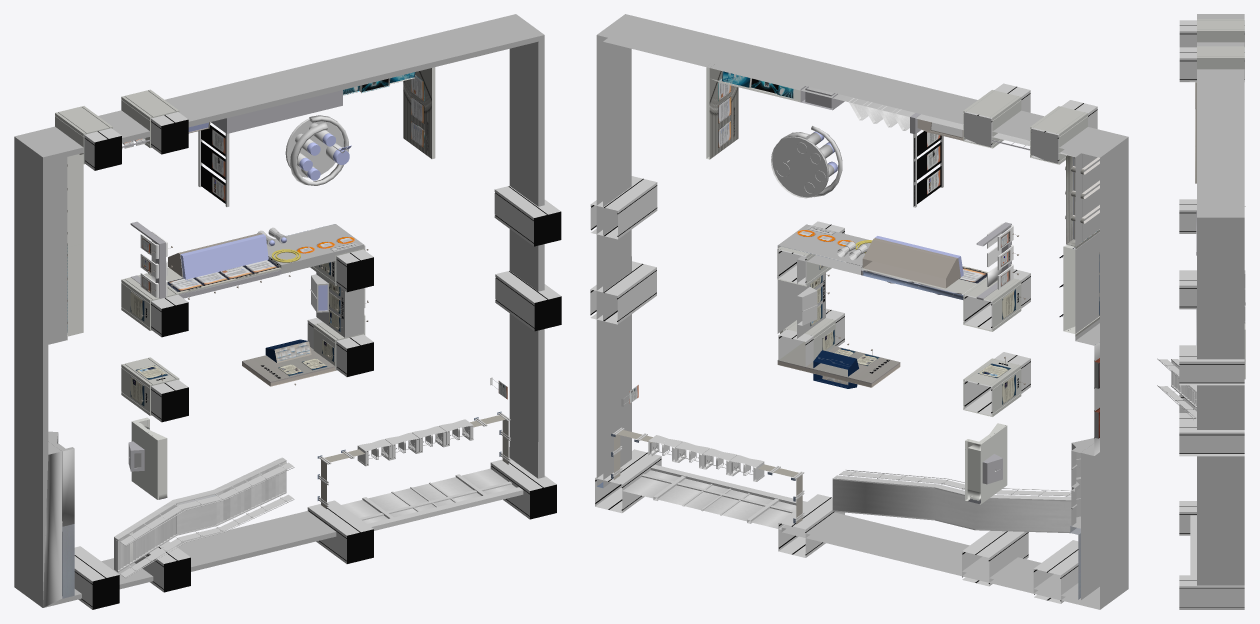
File: ISCASmuseum.obj
3 views of the same model, side by side, from view 1: azimuth 30°, elevation 25°; view 2: azimuth 150°, elevation 25°; view 3: azimuth 270°, elevation 25° (orthographic). The views are drawn at different scales.
Visible parts, largest first — view 1: qm, men051, lt047, FBXASC04847, Line067, jg50, FBXASC04851, FBXASC04837, gz050, FBXASC229FBXASC175FBXASC185FBXASC232FBXASC177FBXASC161027, FBXASC229FBXASC175FBXASC185FBXASC232FBXASC177FBXASC161028, FBXASC229FBXASC175FBXASC185FBXASC232FBXASC177FBXASC161047 (+18 smaller); view 2: qm, lt047, men051, FBXASC04847, Line067, gz050, FBXASC04851, FBXASC04837, paimian, FBXASC229FBXASC175FBXASC185FBXASC232FBXASC177FBXASC161027, jg50, FBXASC229FBXASC175FBXASC185FBXASC232FBXASC177FBXASC161028 (+19 smaller); view 3: qm, FBXASC04847, FBXASC229FBXASC175FBXASC185FBXASC232FBXASC177FBXASC161027, FBXASC229FBXASC175FBXASC185FBXASC232FBXASC177FBXASC161028, FBXASC229FBXASC175FBXASC185FBXASC232FBXASC177FBXASC161048, lt047, FBXASC229FBXASC175FBXASC185FBXASC232FBXASC177FBXASC161046, FBXASC229FBXASC175FBXASC185FBXASC232FBXASC177FBXASC161043, FBXASC229FBXASC175FBXASC185FBXASC232FBXASC177FBXASC161045, FBXASC229FBXASC175FBXASC185FBXASC232FBXASC177FBXASC161042, FBXASC229FBXASC175FBXASC185FBXASC232FBXASC177FBXASC161047, men051 (+1 smaller).
Part boxes in pixels (box(x1,y1,x2,y2)): qm: box(14, 14, 544, 607); men051: box(317, 411, 523, 530); lt047: box(114, 457, 294, 577); FBXASC04847: box(55, 89, 364, 415); Line067: box(267, 224, 364, 337); jg50: box(122, 90, 342, 471); FBXASC04851: box(285, 115, 351, 185); FBXASC04837: box(67, 153, 83, 336); gz050: box(168, 122, 268, 279); FBXASC229FBXASC175FBXASC185FBXASC232FBXASC177FBXASC161027: box(494, 186, 561, 246); FBXASC229FBXASC175FBXASC185FBXASC232FBXASC177FBXASC161028: box(495, 271, 561, 331); FBXASC229FBXASC175FBXASC185FBXASC232FBXASC177FBXASC161047: box(307, 500, 373, 563); qm: box(596, 14, 1128, 609); lt047: box(832, 470, 1071, 533); men051: box(611, 429, 806, 529); FBXASC04847: box(777, 90, 1087, 416); Line067: box(777, 224, 870, 338); gz050: box(862, 119, 963, 288); FBXASC04851: box(771, 126, 842, 198); FBXASC04837: box(1063, 154, 1099, 336); paimian: box(965, 423, 1007, 504); FBXASC229FBXASC175FBXASC185FBXASC232FBXASC177FBXASC161027: box(590, 176, 657, 239); jg50: box(800, 86, 1030, 484); FBXASC229FBXASC175FBXASC185FBXASC232FBXASC177FBXASC161028: box(590, 261, 656, 324); qm: box(1197, 14, 1244, 585); FBXASC04847: box(1197, 19, 1244, 69); FBXASC229FBXASC175FBXASC185FBXASC232FBXASC177FBXASC161027: box(1179, 350, 1244, 385); FBXASC229FBXASC175FBXASC185FBXASC232FBXASC177FBXASC161028: box(1179, 421, 1244, 456); FBXASC229FBXASC175FBXASC185FBXASC232FBXASC177FBXASC161048: box(1179, 575, 1244, 609); lt047: box(1157, 358, 1196, 421); FBXASC229FBXASC175FBXASC185FBXASC232FBXASC177FBXASC161046: box(1179, 47, 1244, 82); FBXASC229FBXASC175FBXASC185FBXASC232FBXASC177FBXASC161043: box(1179, 274, 1196, 309); FBXASC229FBXASC175FBXASC185FBXASC232FBXASC177FBXASC161045: box(1179, 199, 1196, 233); FBXASC229FBXASC175FBXASC185FBXASC232FBXASC177FBXASC161042: box(1179, 20, 1244, 47); FBXASC229FBXASC175FBXASC185FBXASC232FBXASC177FBXASC161047: box(1179, 501, 1196, 535); men051: box(1190, 515, 1196, 575).
Bounding box in the file's own units: 22.49 × 20.48 × 4.1.
Materials: 10 (4 with a texture image).
